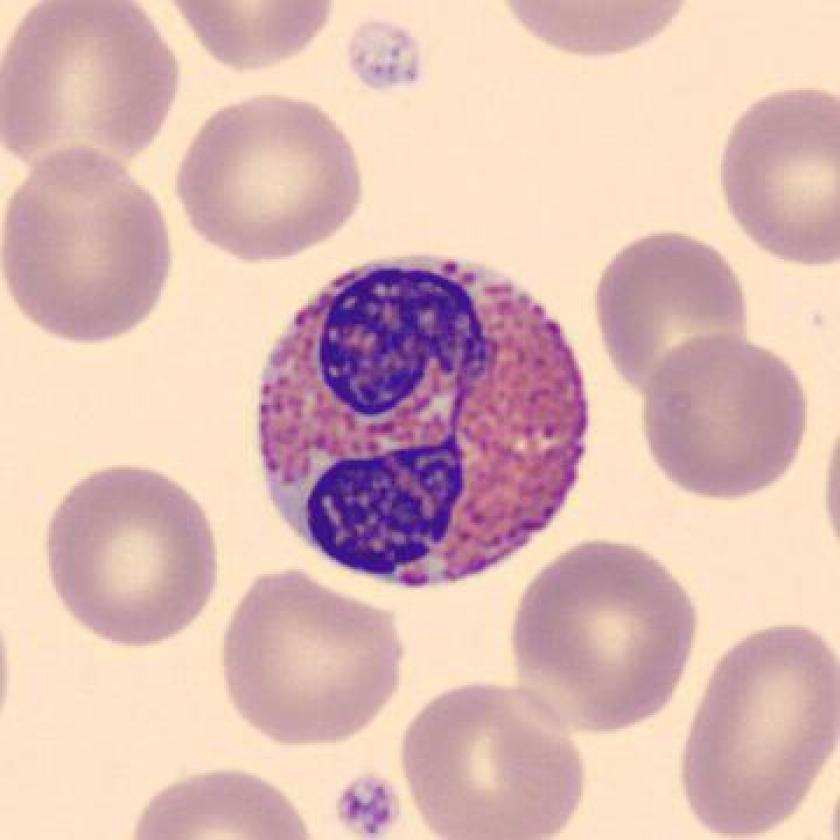eosinophil: (244, 242, 603, 603)
